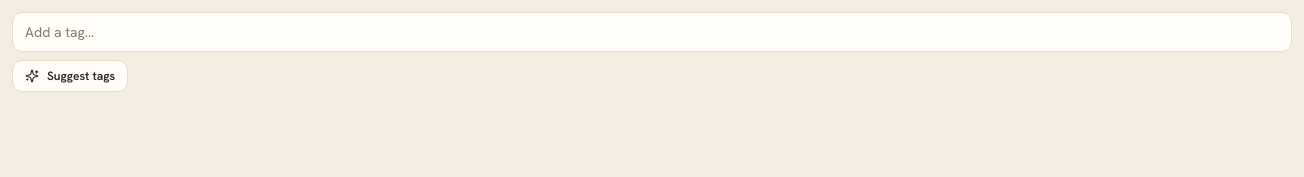
Test: ItemTagsEditor › still offers a dietary tag by hand
Type "veg" into the dropdown at (652, 32), box 12,12 -> 1292,52
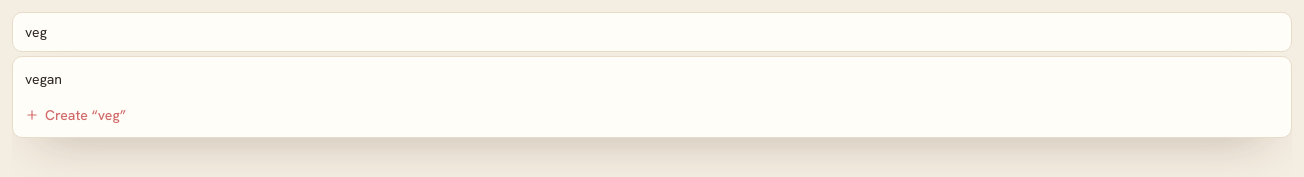
Now the option "vegan" is shown, box 13,61 -> 1291,97
